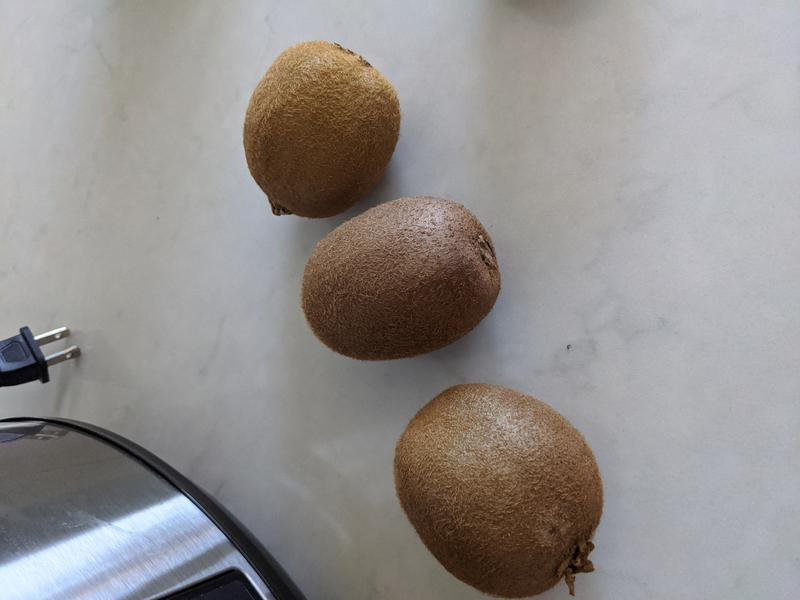kiwi: (392, 381, 606, 600), (302, 195, 502, 360), (242, 40, 401, 219)
